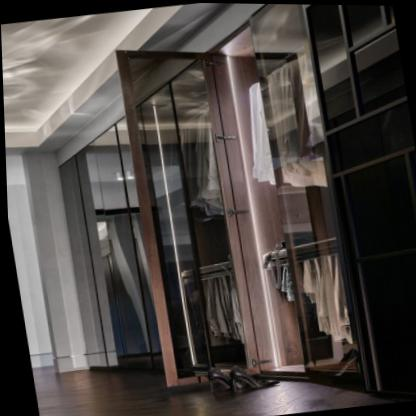Transparent Closet: (58, 3, 416, 391)
